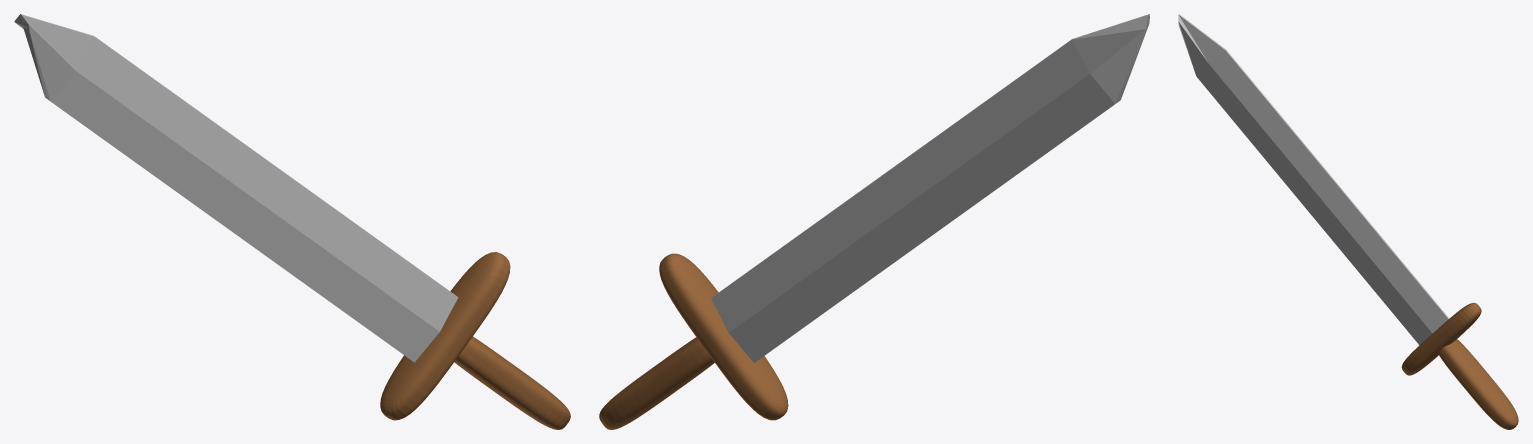
Rendered from меч.fbx.
3 renders of one model, left to right at view 1: azimuth 30°, elevation 25°; view 2: azimuth 150°, elevation 25°; view 3: azimuth 330°, elevation 25°, orthographic. The views are drawn at different scales.
Parts seen in each view (by area): view 1: меч; view 2: меч; view 3: меч.
Part boxes in pixels (x1,y1,x2,y2): меч: [14, 14, 570, 429]; меч: [599, 14, 1149, 429]; меч: [1178, 14, 1518, 429].
Size of the model in its own units: 1619 by 1534 by 126.
